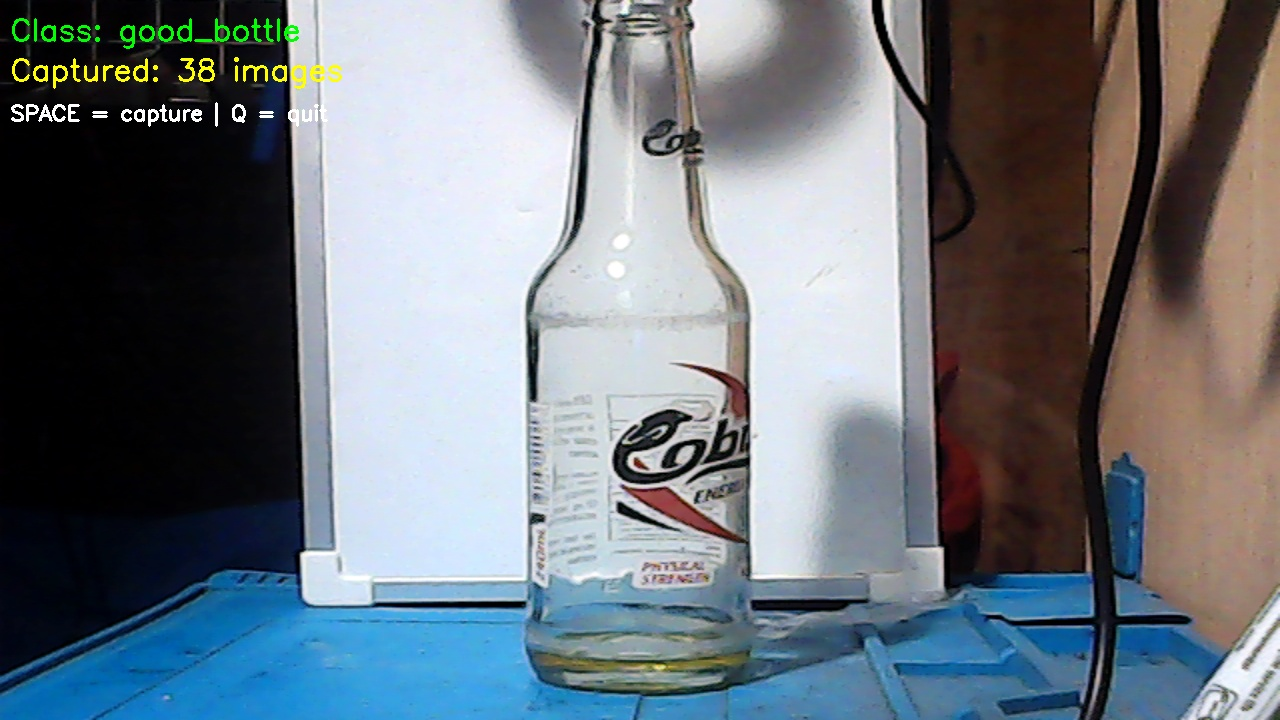good_bottle: (526, 0, 779, 671)
